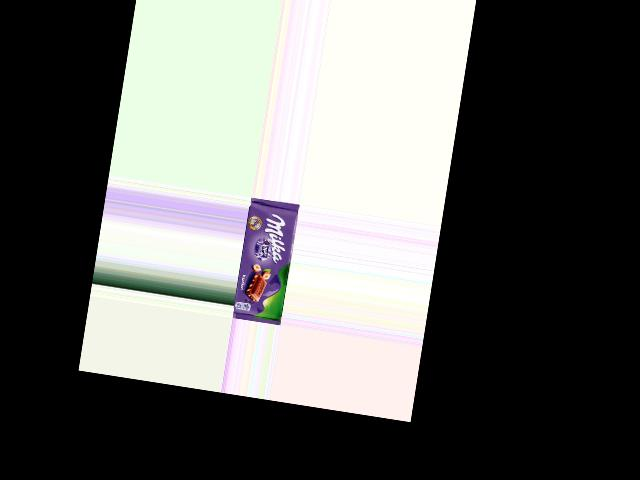chocolate: (231, 197, 299, 325)
